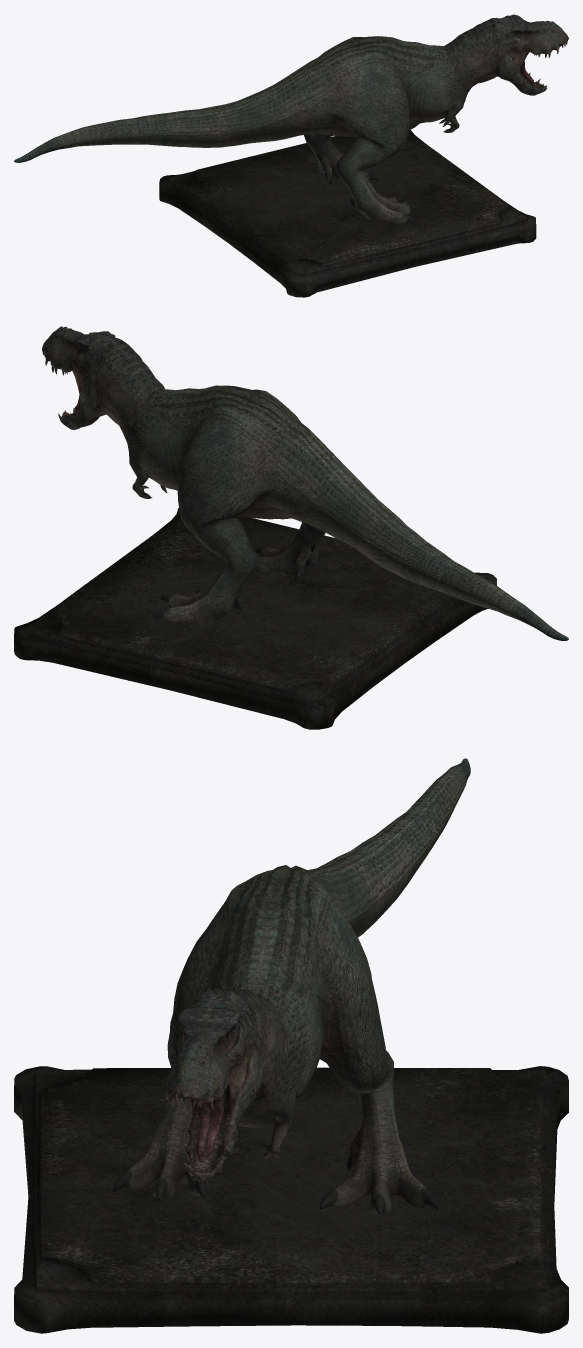
The picture shows the model from 3 angles, top to bottom: view 1: azimuth 30°, elevation 25°; view 2: azimuth 150°, elevation 25°; view 3: azimuth 270°, elevation 25°; orthographic projection. The views are drawn at different scales.
Visible parts, largest first — view 1: stand:stand:standbiglow:standbiglow stand:stand:group112_0_N, vrexset:fix vrexset:tongue2 vrexset:fix_0, vrexset:fix vrexset:fix_v1_0; view 2: stand:stand:standbiglow:standbiglow stand:stand:group112_0_N, vrexset:fix vrexset:tongue2 vrexset:fix_0, vrexset:fix vrexset:fix_v1_0; view 3: stand:stand:standbiglow:standbiglow stand:stand:group112_0_N, vrexset:fix vrexset:tongue2 vrexset:fix_0, vrexset:fix vrexset:fix_v1_0.
Part boxes in pixels (x1,y1,x2,y2): stand:stand:standbiglow:standbiglow stand:stand:group112_0_N: (159,130,536,297); vrexset:fix vrexset:tongue2 vrexset:fix_0: (14,36,467,223); vrexset:fix vrexset:fix_v1_0: (445,14,567,95); stand:stand:standbiglow:standbiglow stand:stand:group112_0_N: (14,508,496,729); vrexset:fix vrexset:tongue2 vrexset:fix_0: (127,385,568,640); vrexset:fix vrexset:fix_v1_0: (42,326,164,442); stand:stand:standbiglow:standbiglow stand:stand:group112_0_N: (14,1066,568,1333); vrexset:fix vrexset:tongue2 vrexset:fix_0: (113,758,470,1214); vrexset:fix vrexset:fix_v1_0: (166,987,288,1181).
Bounding box in the file's own units: 0.1665 × 0.0594 × 0.0856.
5 materials, 5 textured.
